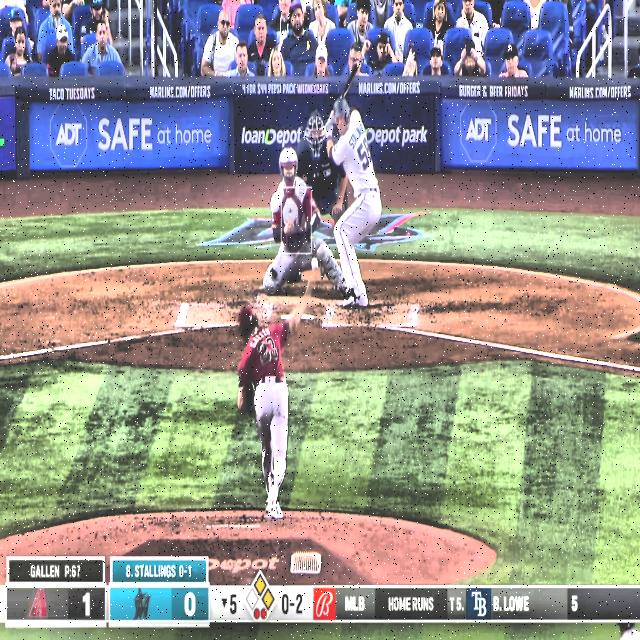baseball: (310, 256, 319, 272)
